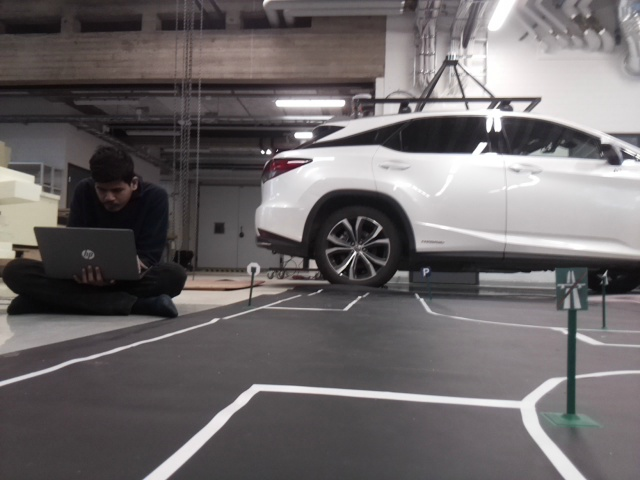HighwayExit: (555, 269, 586, 308)
